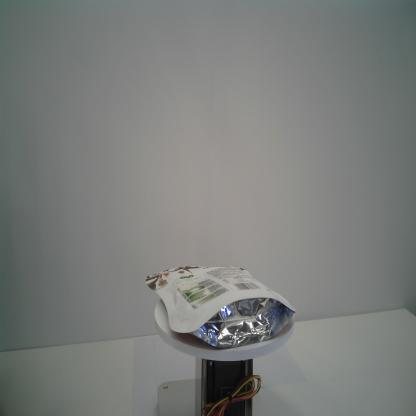Dried Fruit: (146, 264, 298, 350)
